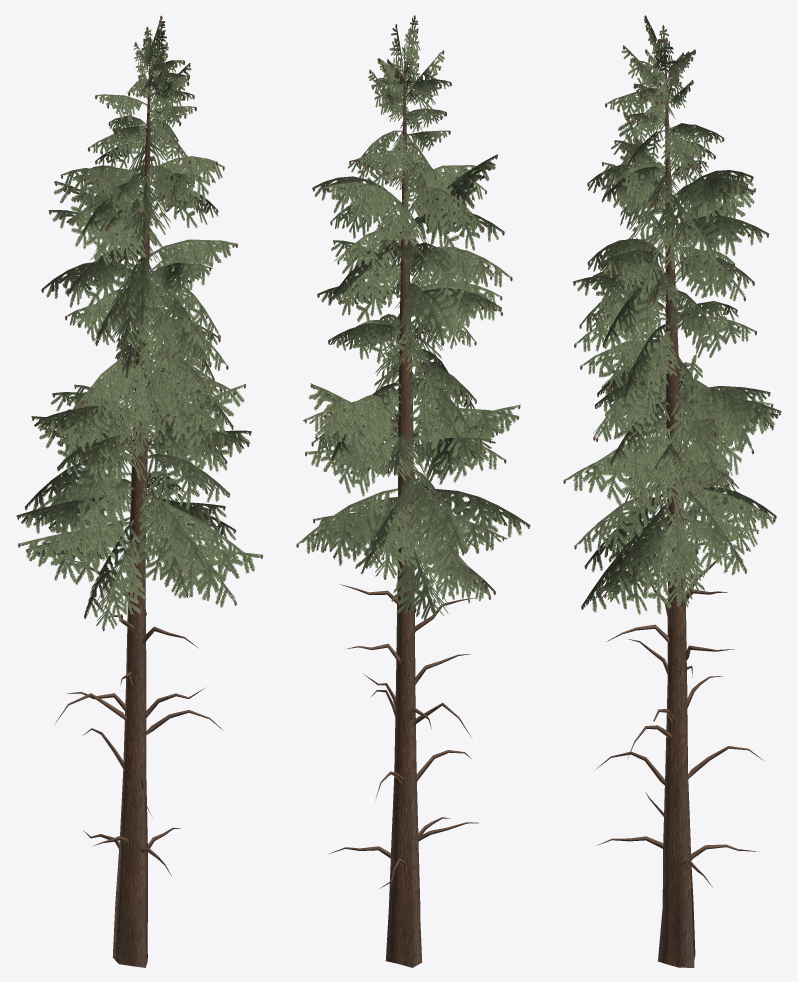
File: Sequoia_Sempervirens_Autumn_Adult.glb
3 views of the same model, side by side, from view 1: azimuth 30°, elevation 25°; view 2: azimuth 150°, elevation 25°; view 3: azimuth 270°, elevation 25° (orthographic). The views are drawn at different scales.
Visible parts, largest first — view 1: Sequoia_Sempervirens_Autumn_Adult__LOD3; view 2: Sequoia_Sempervirens_Autumn_Adult__LOD3; view 3: Sequoia_Sempervirens_Autumn_Adult__LOD3.
Part boxes in pixels (x1,y1,x2,y2): Sequoia_Sempervirens_Autumn_Adult__LOD3: [16, 15, 263, 967]; Sequoia_Sempervirens_Autumn_Adult__LOD3: [296, 15, 530, 967]; Sequoia_Sempervirens_Autumn_Adult__LOD3: [563, 15, 781, 967].
Bounding box in the file's own units: 17.95 × 75.1 × 15.94.
3 materials, 3 textured.
